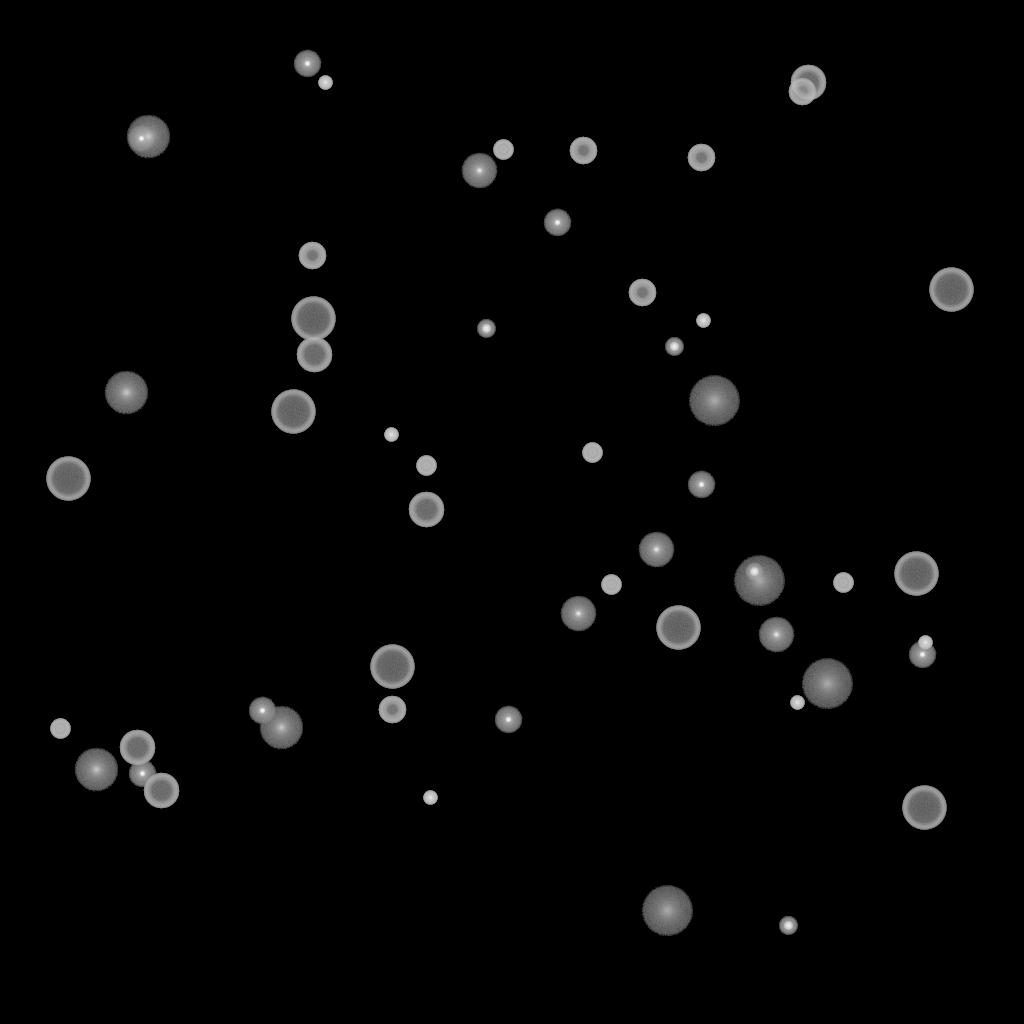depth:-10: (543, 209, 571, 237), (687, 471, 715, 499), (494, 706, 522, 734), (908, 641, 936, 669), (128, 760, 156, 788), (127, 125, 155, 153), (248, 697, 276, 725), (293, 50, 321, 78)
depth:-20: (665, 338, 683, 356), (779, 917, 797, 935), (477, 320, 495, 338), (745, 563, 763, 581)
depth:-30: (696, 314, 710, 328), (318, 76, 332, 90), (790, 696, 804, 710), (384, 428, 398, 442), (423, 791, 437, 805), (918, 636, 932, 650)
depth:-40: (833, 573, 853, 593), (601, 575, 621, 595), (582, 443, 602, 463), (493, 140, 513, 160), (50, 719, 70, 739), (416, 456, 436, 476)
depth:-50: (298, 242, 326, 270), (569, 137, 597, 165), (378, 696, 406, 724), (687, 144, 715, 172), (628, 279, 656, 307), (788, 78, 816, 106)
depth:-60: (296, 337, 332, 373), (408, 492, 444, 528), (143, 773, 179, 809), (790, 65, 826, 101), (119, 730, 155, 766)
depth:-70: (271, 390, 315, 434), (370, 645, 414, 689), (902, 786, 946, 830), (656, 606, 700, 650), (894, 552, 938, 596), (291, 297, 335, 341), (929, 268, 973, 312), (46, 457, 90, 501)
depth:0: (638, 532, 674, 568), (560, 596, 596, 632), (461, 153, 497, 189), (758, 617, 794, 653)
depth:10: (74, 748, 118, 792), (104, 371, 148, 415), (126, 115, 170, 159), (259, 706, 303, 750)
depth:20: (641, 886, 693, 936), (801, 659, 853, 709), (688, 376, 740, 426), (733, 556, 785, 606)
